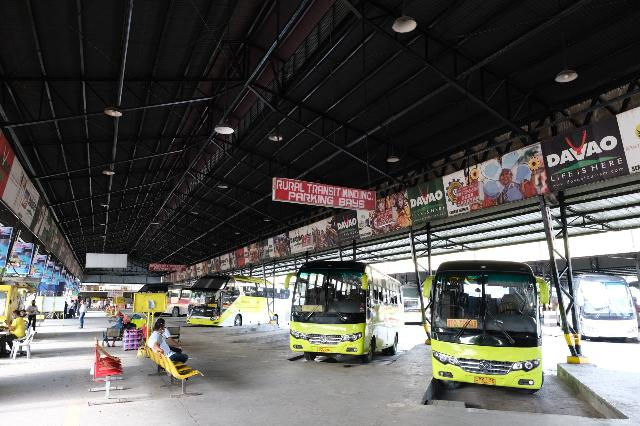bus: (288, 261, 407, 366)
truck: (422, 260, 551, 394), (553, 274, 640, 342), (184, 274, 289, 329), (134, 282, 193, 319)
